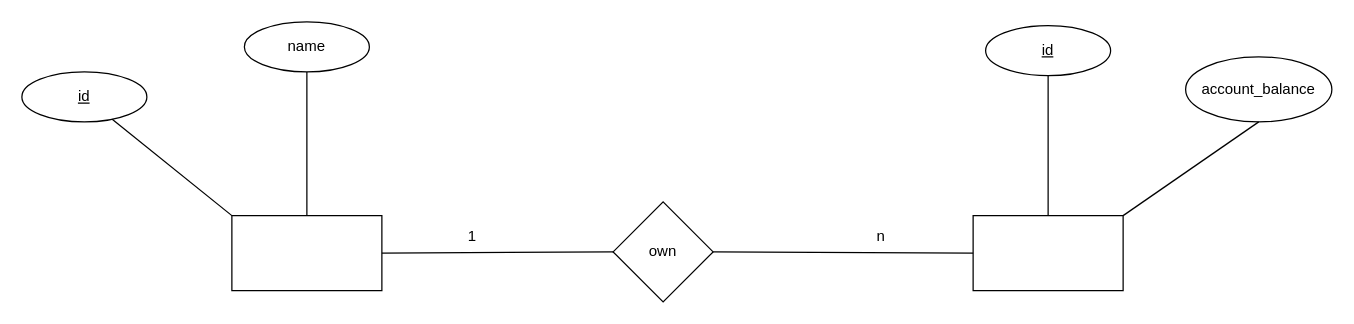
Image size: 1354x324. Some labels were removed from this diagram. The shapes that lost their labels are listed below. From the top down, each one's box as (x1, y1, x2, y2) in pixels, then its label:
(231, 214, 382, 291): Customer
(972, 214, 1123, 291): Account
